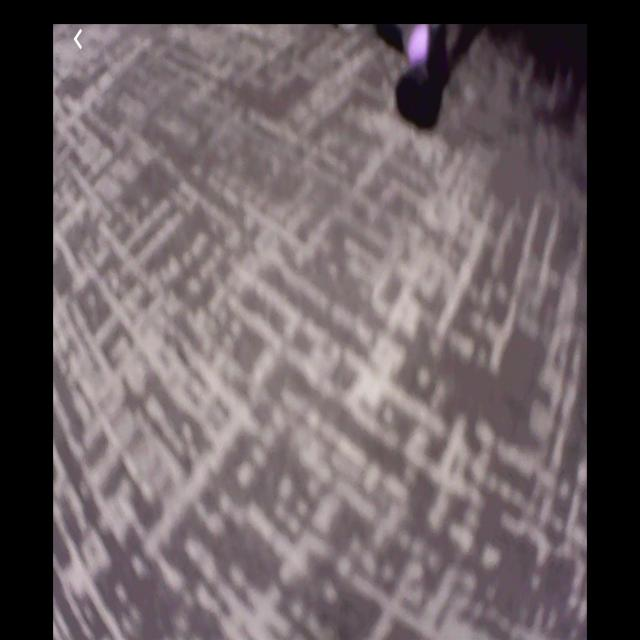ball: (408, 26, 435, 68)
